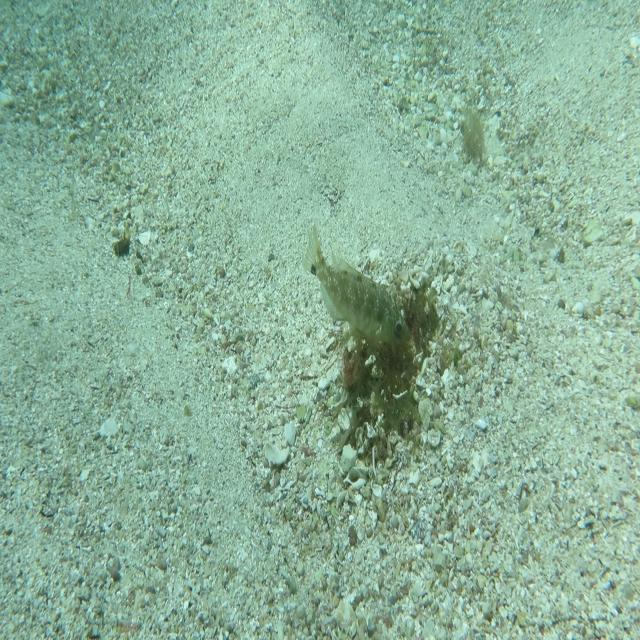NIP_CORE: (302, 218, 414, 356)
nest: (326, 258, 436, 457)
vegetation: (457, 100, 486, 162), (110, 229, 131, 258)
